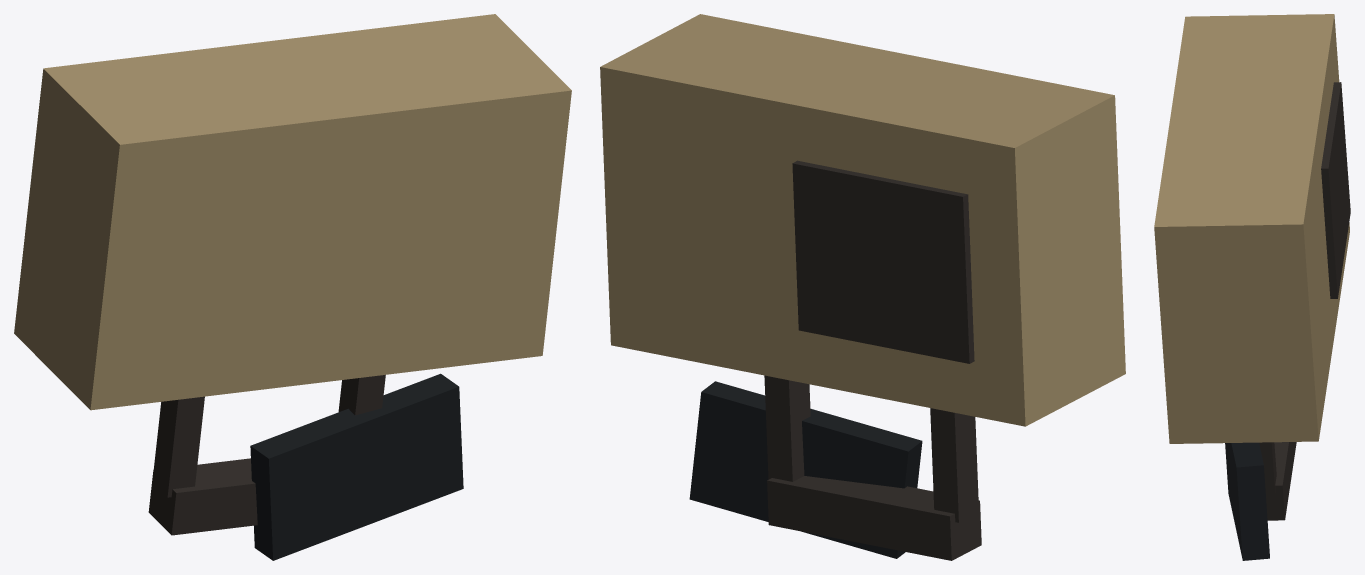
File: riko.glb
3 renders of one model, left to right at view 1: azimuth 30°, elevation 25°; view 2: azimuth 150°, elevation 25°; view 3: azimuth 270°, elevation 25°, orthographic. The views are drawn at different scales.
Visible parts, largest first — view 1: radio, phone; view 2: radio, phone; view 3: radio, phone.
Part boxes in pixels (x1=…): radio: x1=14, y1=14, x2=571, y2=535; phone: x1=250, y1=373, x2=463, y2=560; radio: x1=600, y1=14, x2=1125, y2=560; phone: x1=689, y1=381, x2=922, y2=558; radio: x1=1154, y1=14, x2=1350, y2=520; phone: x1=1225, y1=442, x2=1269, y2=560.
Size of the model in its own units: 0.1677 by 0.1677 by 0.0727.
